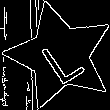L_NW: (32, 26, 87, 85)
